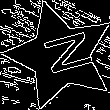N_W: (29, 29, 91, 82)
